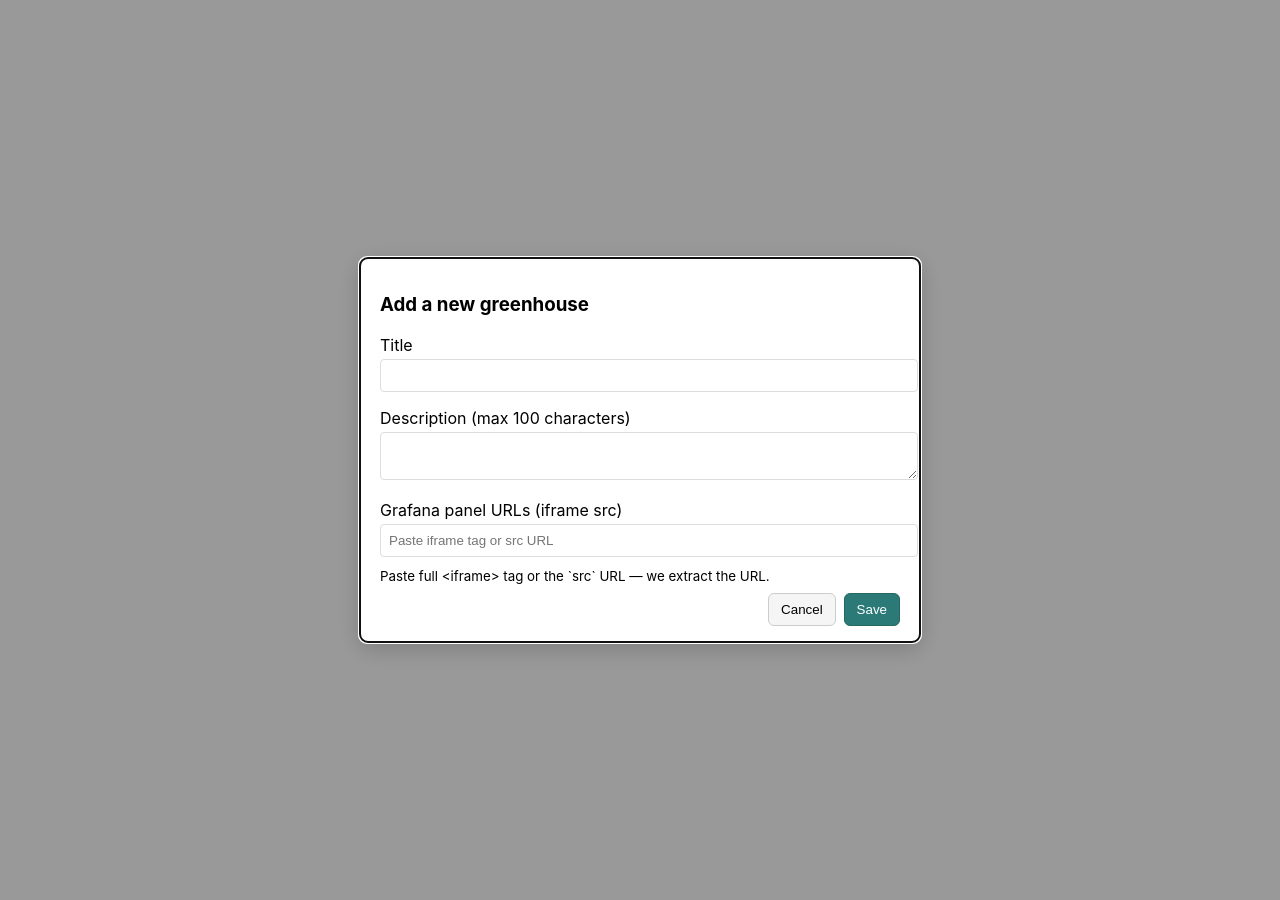
AddGreenhouseModal › shows invalid URL error when Grafana URL does not normalize
Type "My GH" into the field labelled "Title".
click(649, 375); type("My GH")  # box [380, 359, 918, 392]
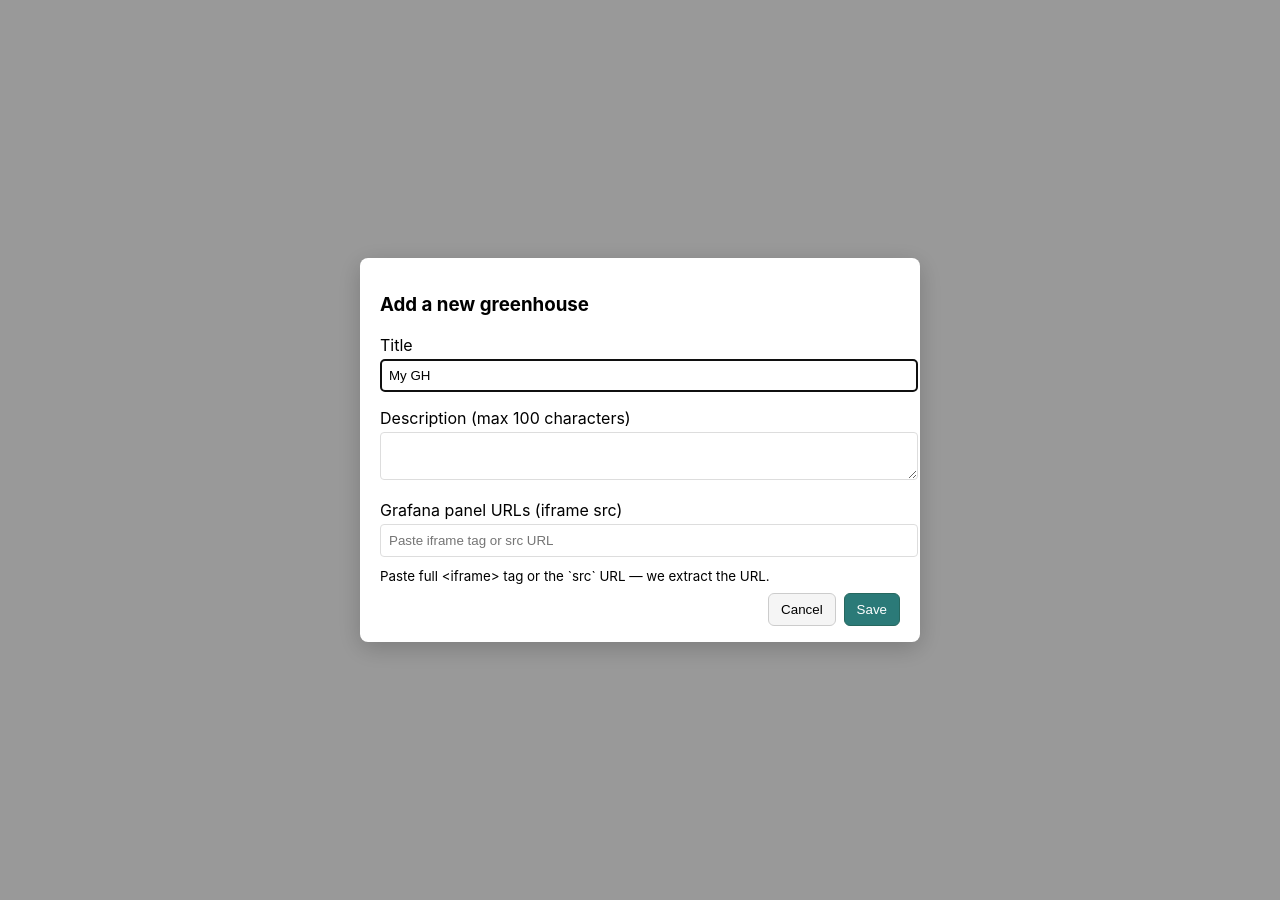
Type "not-a-valid-url" into the field with placeholder "Paste iframe tag or src URL".
click(649, 540); type("not-a-valid-url")  # box [380, 524, 918, 557]
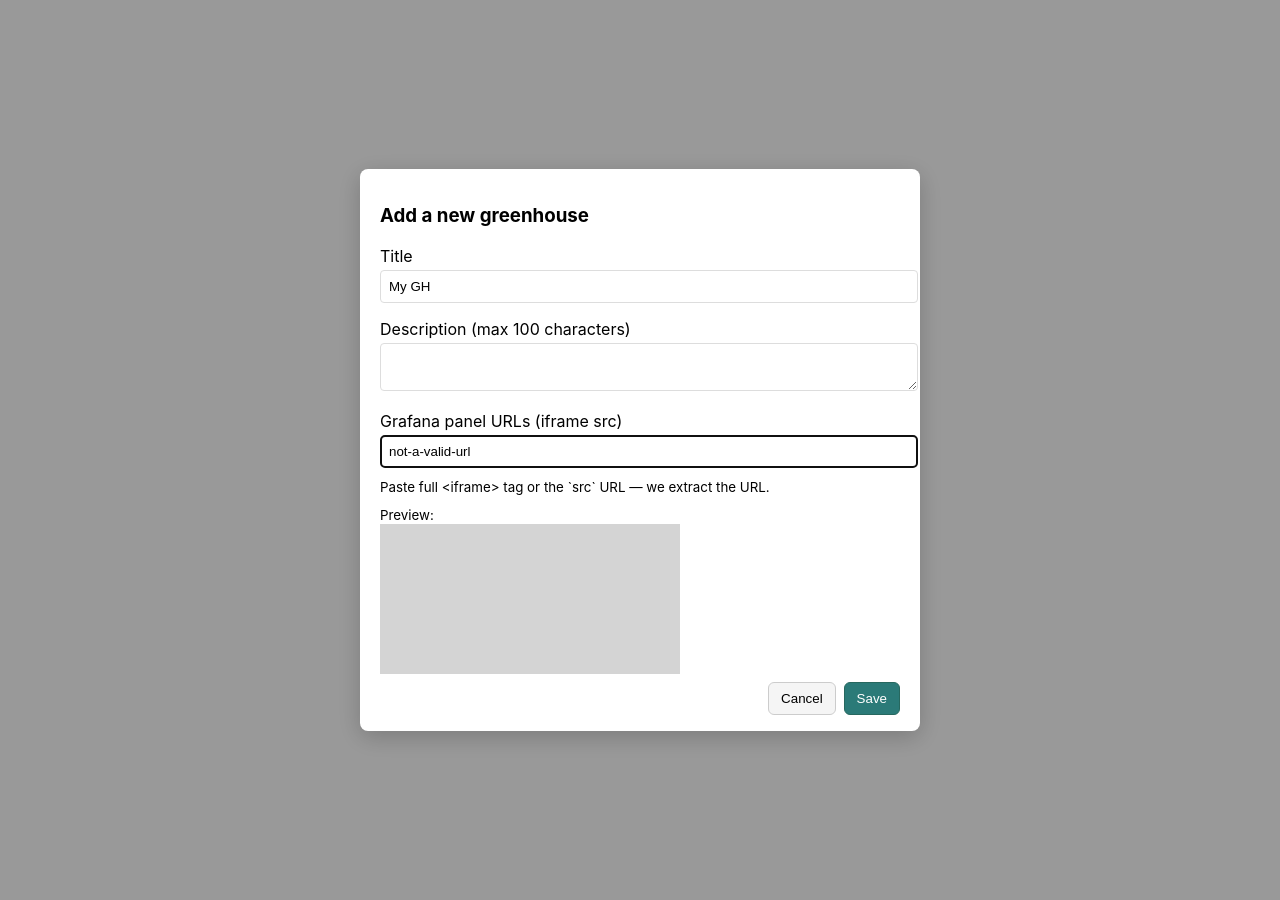
Click the button "Save".
click(872, 698)  # box [844, 682, 900, 715]
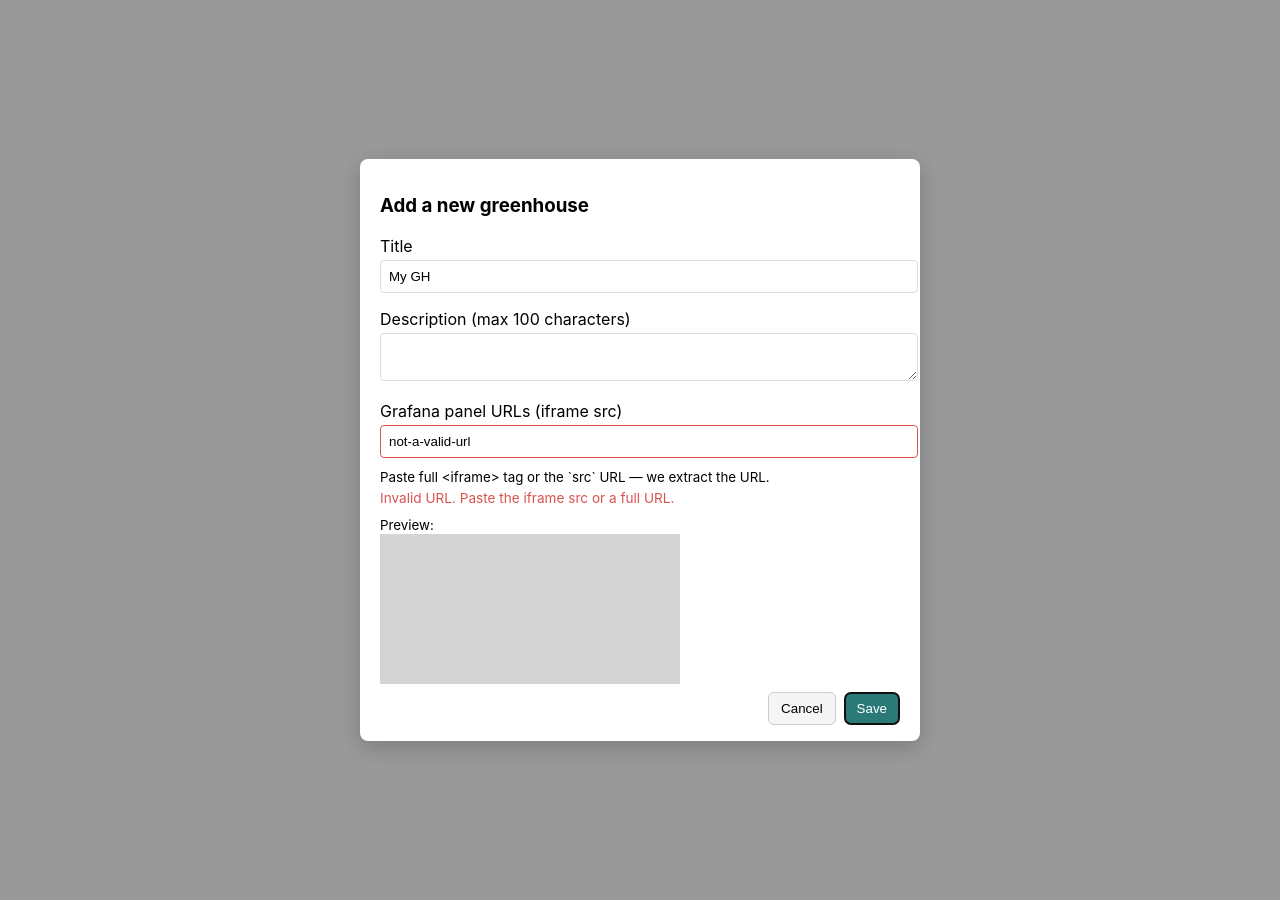
Check: the text "Invalid URL. Paste the iframe src or a full URL." is shown, box [380, 490, 674, 506]
